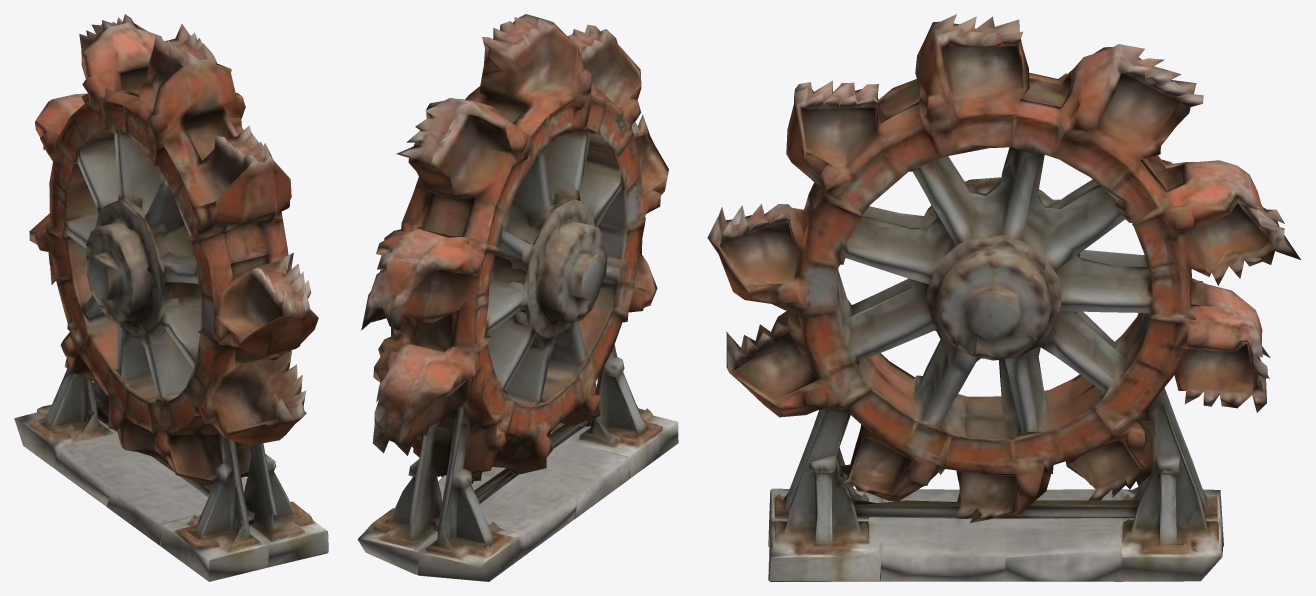
The model's file is zs_schaufelrad.glb.
3 renders of one model, left to right at view 1: azimuth 30°, elevation 25°; view 2: azimuth 150°, elevation 25°; view 3: azimuth 270°, elevation 25°, orthographic. The views are drawn at different scales.
Parts seen in each view (by area): view 1: tripo_node_ce21872b-1b2f-49c2-be1e-046074868782; view 2: tripo_node_ce21872b-1b2f-49c2-be1e-046074868782; view 3: tripo_node_ce21872b-1b2f-49c2-be1e-046074868782.
Part boxes in pixels (left/top/right/bottom): tripo_node_ce21872b-1b2f-49c2-be1e-046074868782: left=14, top=14, right=328, bottom=581; tripo_node_ce21872b-1b2f-49c2-be1e-046074868782: left=357, top=14, right=678, bottom=581; tripo_node_ce21872b-1b2f-49c2-be1e-046074868782: left=707, top=14, right=1300, bottom=581.
Size of the model in its own units: 0.328 by 0.9894 by 1.
1 material, 1 textured.
